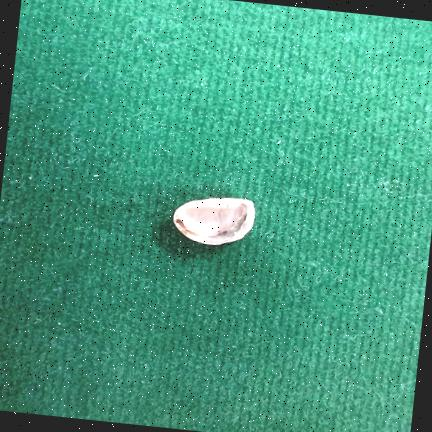shell: (173, 198, 255, 245)
